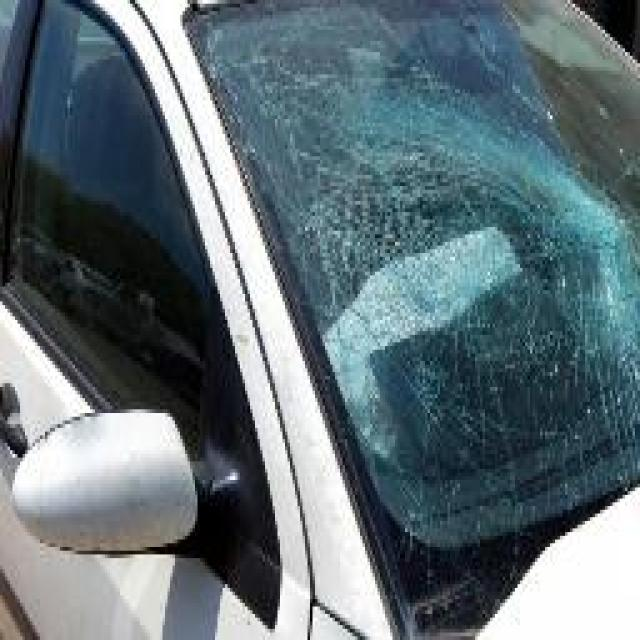Windshield: (192, 2, 640, 640)
